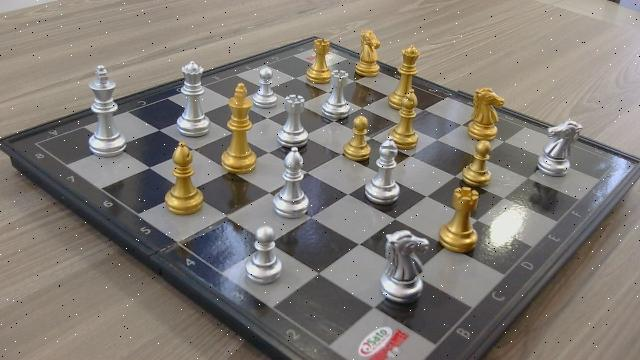black_bishop: (164, 143, 204, 214), (396, 86, 421, 138)
black_king: (220, 81, 258, 174)
black_knight: (469, 85, 503, 141), (353, 27, 382, 76)
black_pawn: (464, 140, 491, 185), (345, 115, 370, 158)
black_queen: (398, 43, 423, 85)
black_rook: (439, 187, 481, 252), (305, 36, 331, 84)
white_bishop: (273, 145, 310, 218), (364, 138, 402, 206)
white_king: (85, 63, 126, 155)
white_knight: (379, 226, 433, 303), (539, 117, 583, 176)
white_pawn: (247, 225, 284, 283), (253, 67, 278, 107)
white_queen: (176, 61, 213, 138)
white_rook: (276, 93, 310, 147), (323, 69, 353, 119)
